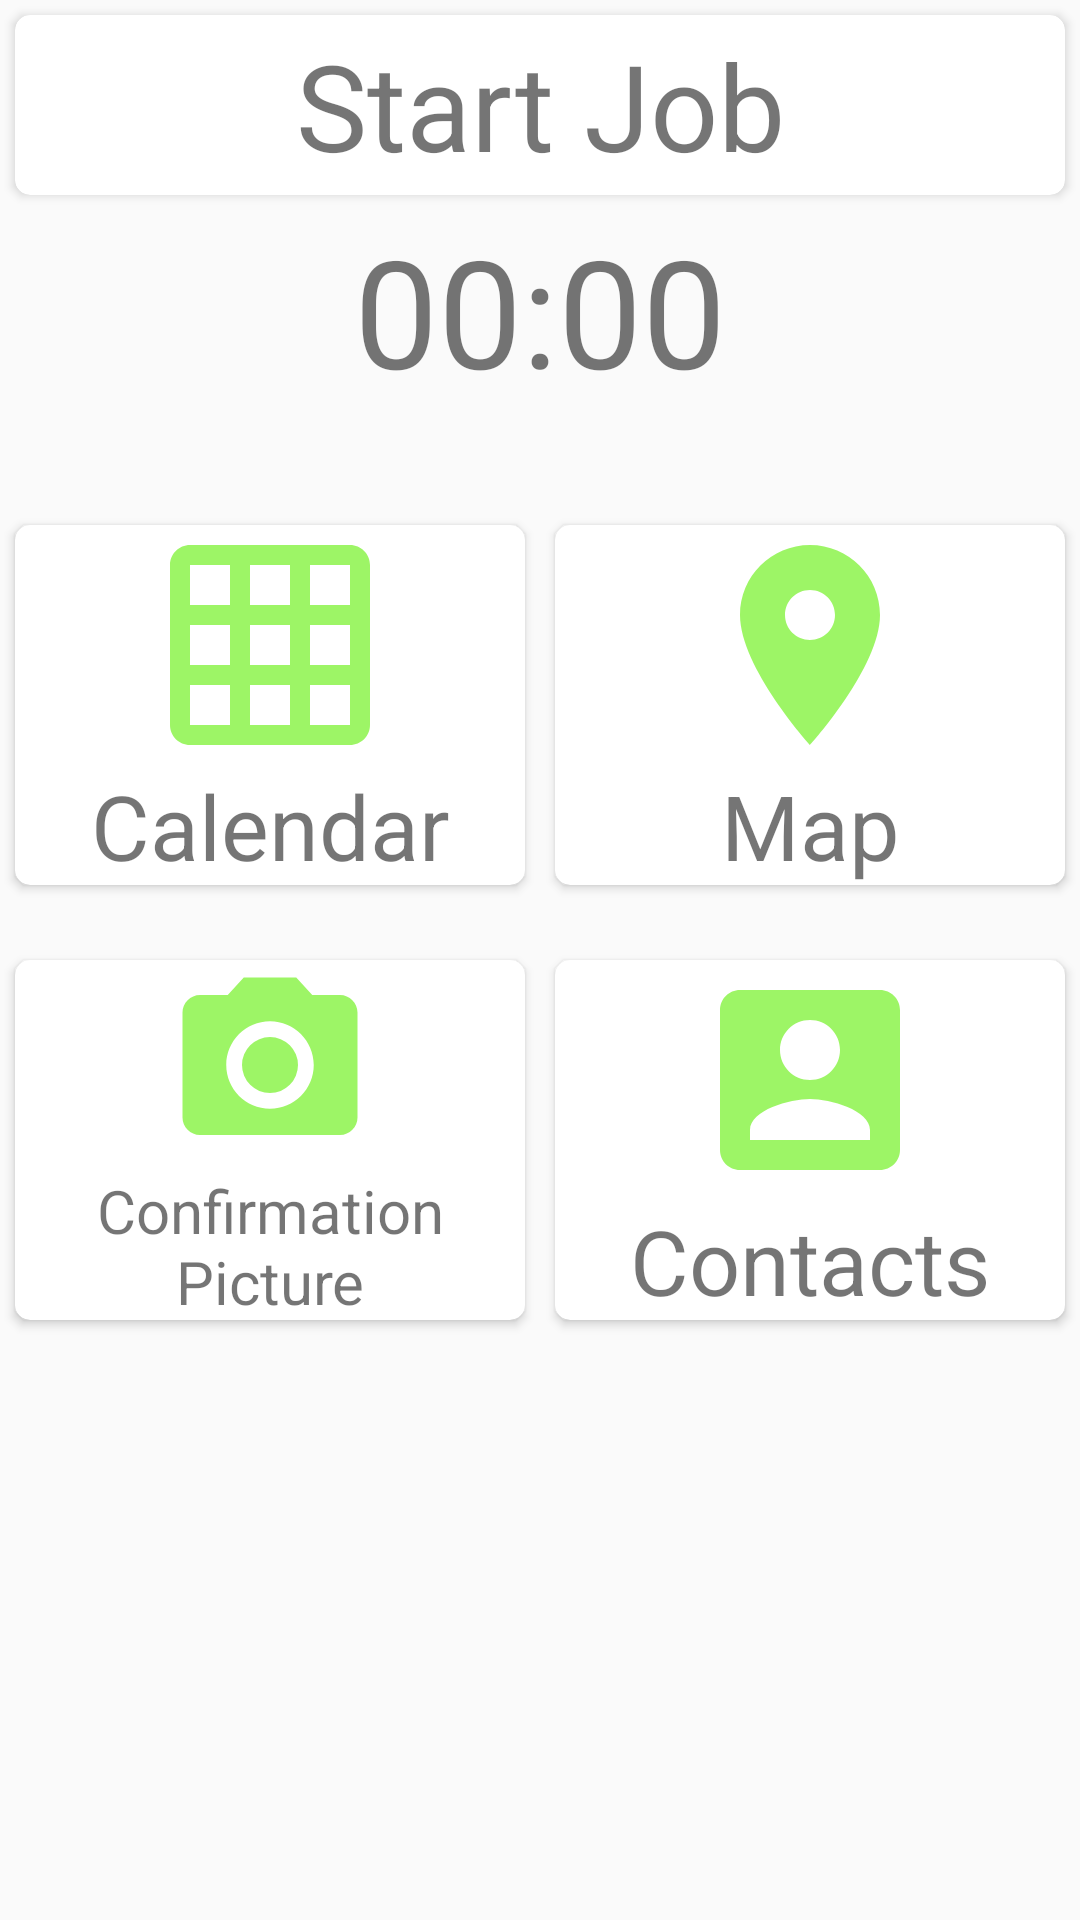

Named icons in this screenshot (1080px x 1920px) and their centers, [x,y]:
camera: [270,1056]
room: [810,645]
